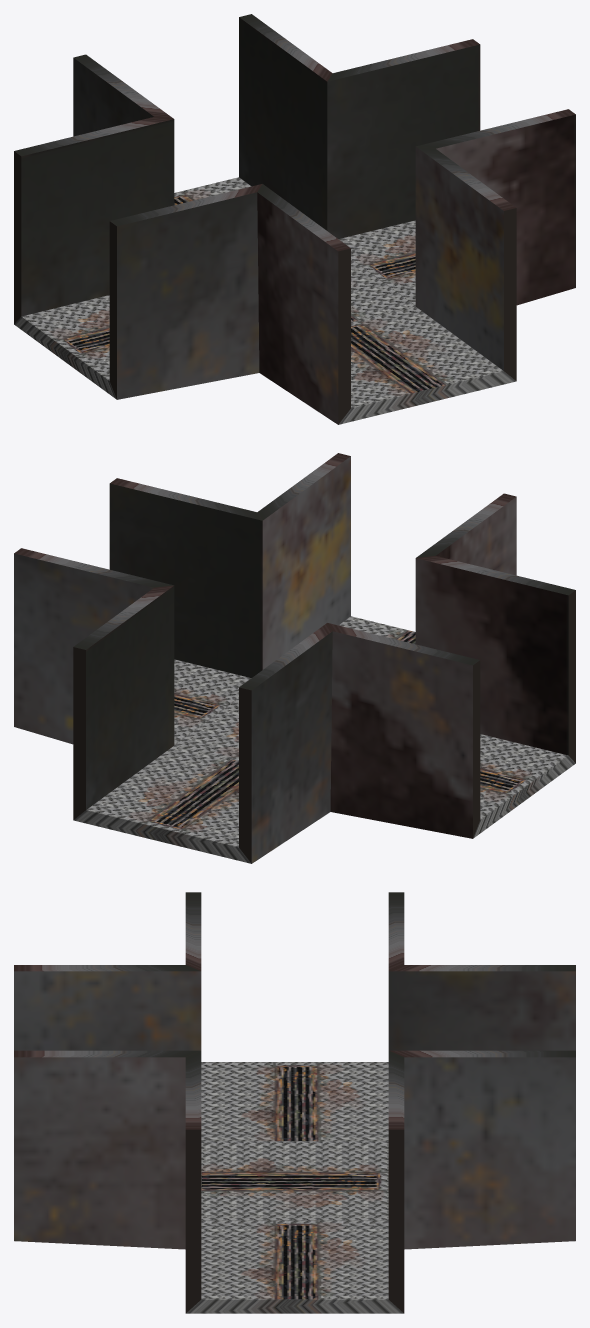
File: Corridor.002.fbx
The picture shows the model from 3 angles, top to bottom: view 1: azimuth 30°, elevation 25°; view 2: azimuth 150°, elevation 25°; view 3: azimuth 270°, elevation 25°; orthographic projection. The views are drawn at different scales.
Visible parts, largest first — view 1: Corridor.002; view 2: Corridor.002; view 3: Corridor.002.
Boxes of the visible parts, <box> form: Corridor.002: <box>14,14,575,424</box>; Corridor.002: <box>14,453,575,863</box>; Corridor.002: <box>14,892,575,1313</box>.
Size of the model in its own units: 1800 by 690 by 1800.
